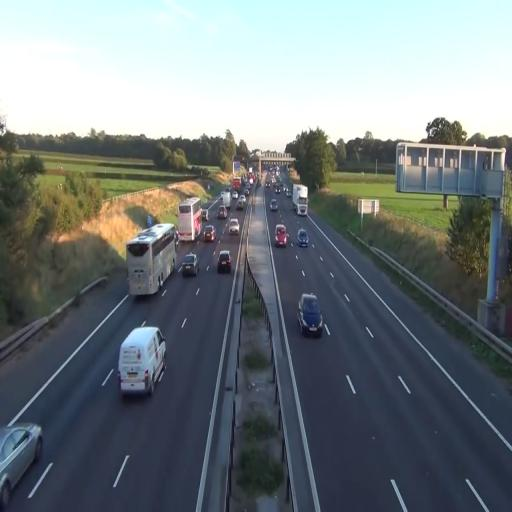vehicle: (126, 222, 179, 300), (126, 222, 178, 299), (0, 420, 43, 509), (118, 324, 167, 396), (177, 199, 209, 243), (298, 292, 324, 336), (292, 184, 308, 214), (180, 253, 199, 278), (293, 185, 308, 215), (216, 249, 232, 273), (274, 222, 288, 247), (202, 224, 217, 243), (227, 217, 240, 236), (298, 227, 308, 247)
